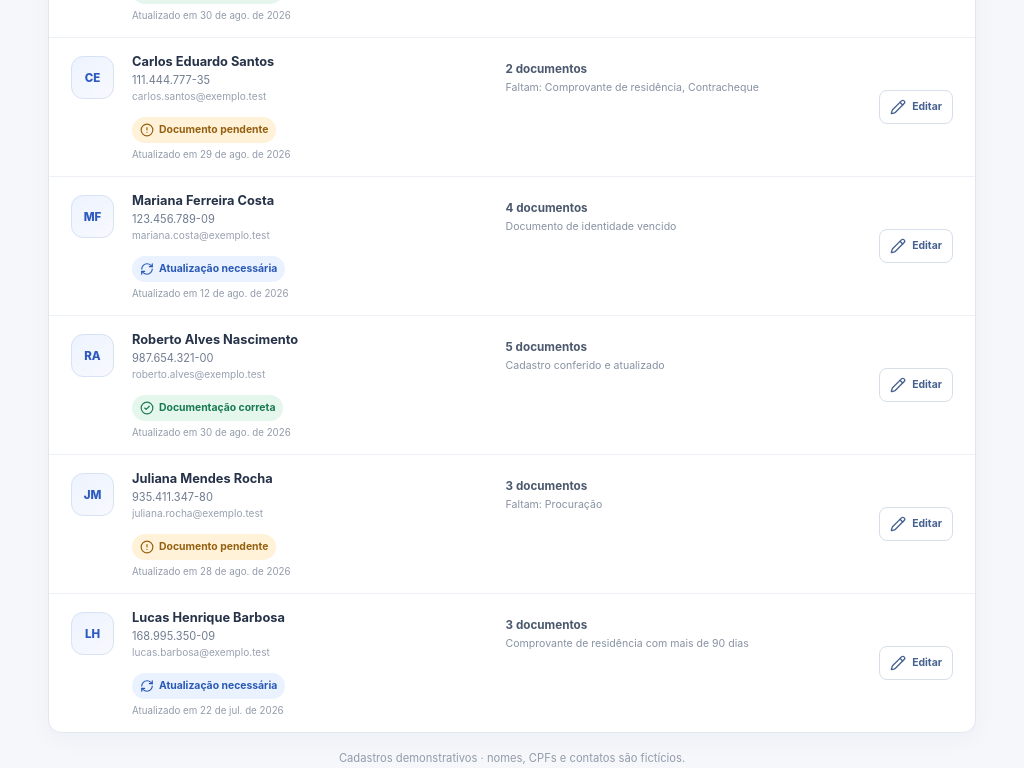
Scenario: PeoplePage › edita a pessoa e simula documentos exigidos e recebidos
(page scrolled)
Click the button with aria-label "Editar cadastro de Roberto Alves Nascimento": {"x": 916, "y": 385} x1=879 y1=368 x2=953 y2=402
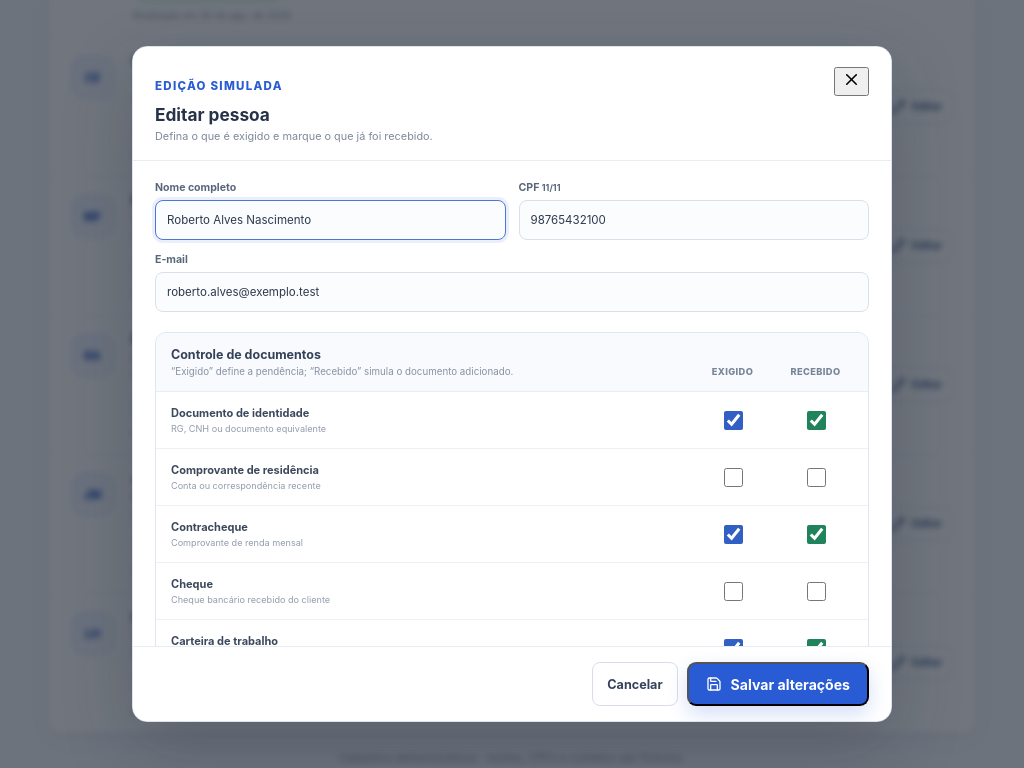
Replace the text in the field labelled "CPF 11/11" with "abc1234567890999": {"x": 694, "y": 220} x1=518 y1=200 x2=869 y2=240
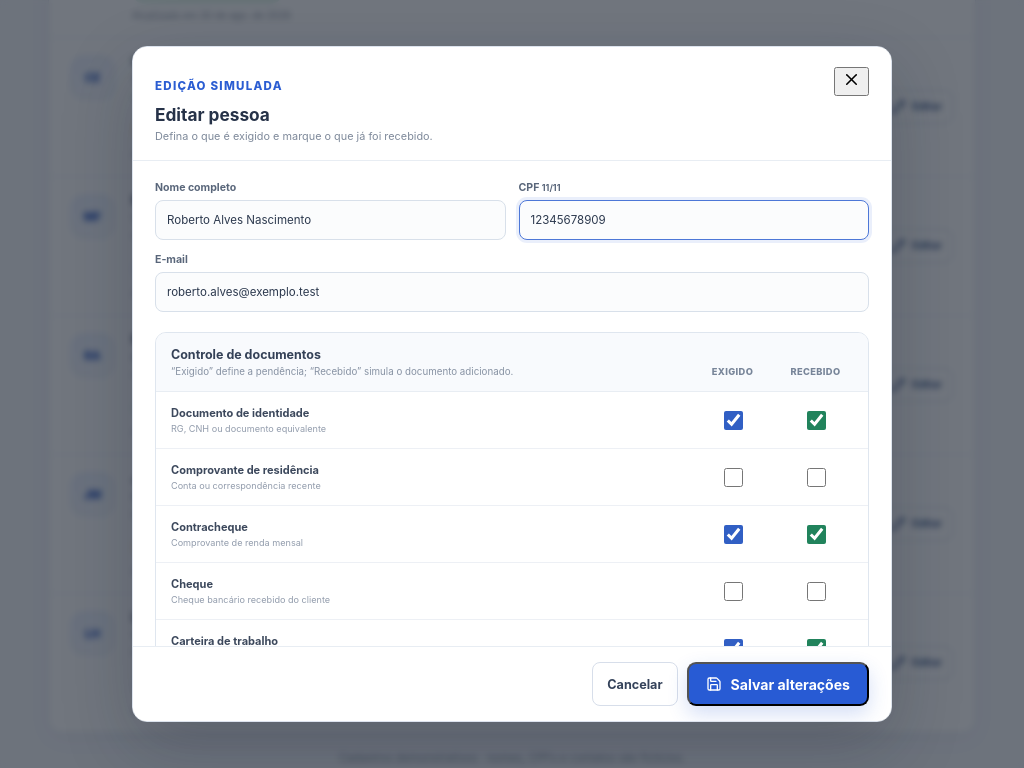
Result: the 7th checkbox named "Exigir Cheque" is not checked
Result: the 8th checkbox named "Marcar Cheque como recebido" is not checked at x1=806 y1=582 x2=826 y2=601
Result: the field labelled "CPF 11/11" holds "12345678909" at x1=518 y1=200 x2=869 y2=240
Click the 7th checkbox named "Exigir Cheque": {"x": 733, "y": 591} x1=724 y1=582 x2=742 y2=601
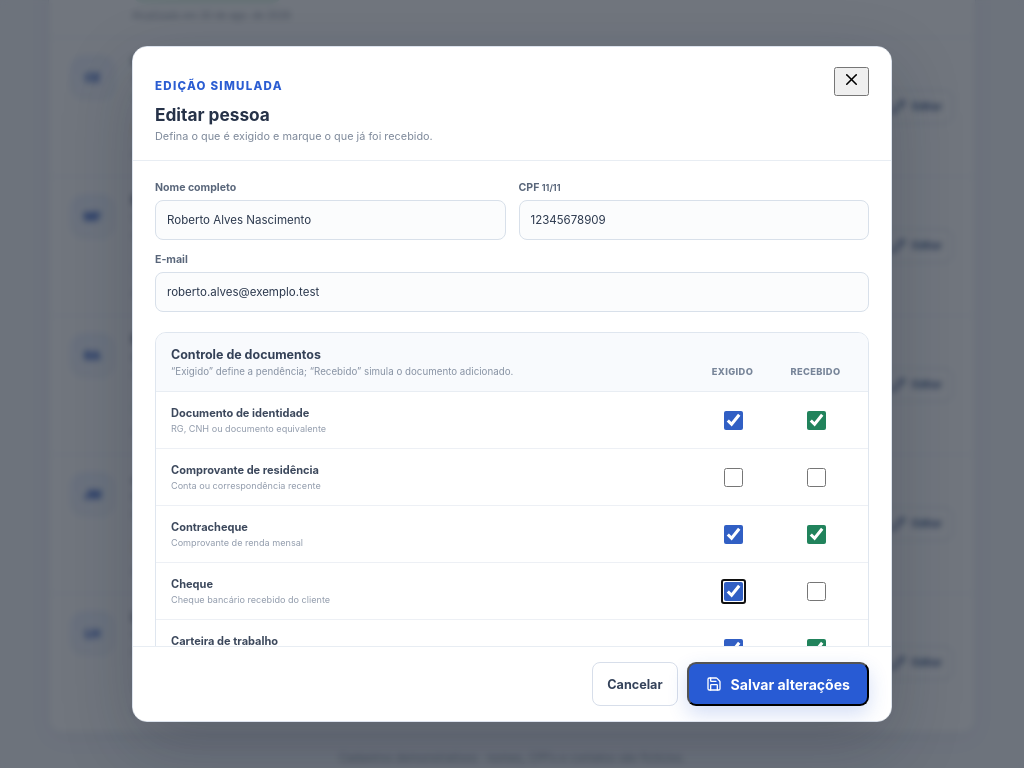
Click the button "Salvar alterações": {"x": 778, "y": 684} x1=687 y1=662 x2=869 y2=706
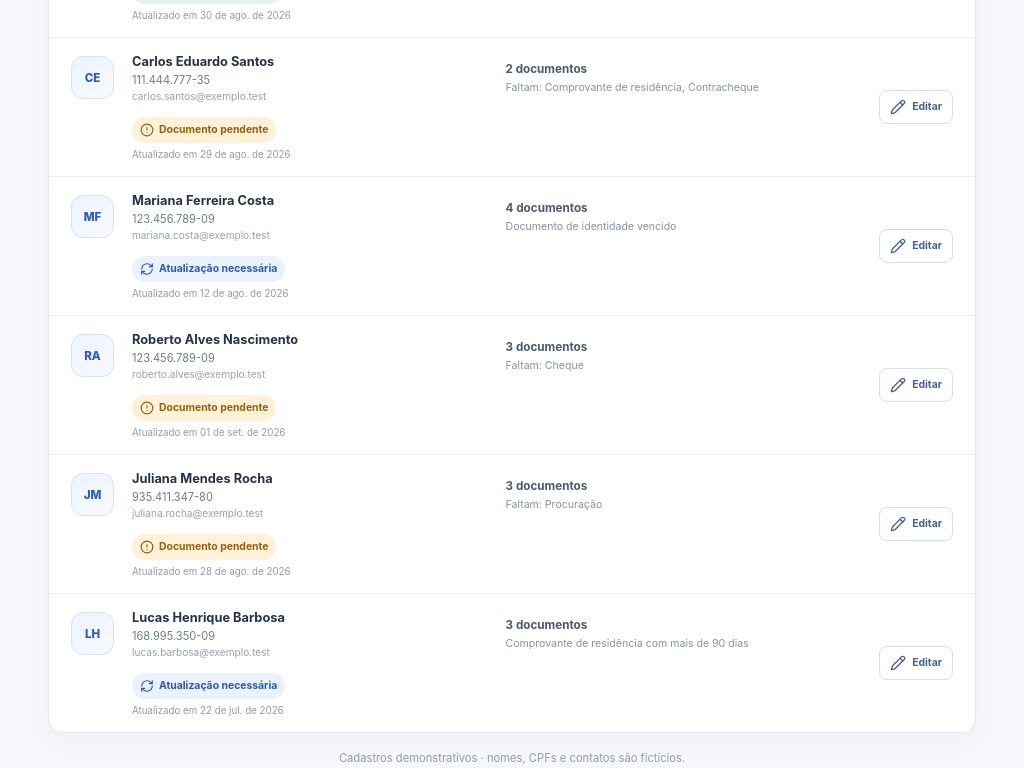
Result: the dialog is gone
Result: the text "Faltam: Cheque" is shown at x1=506 y1=359 x2=584 y2=372
